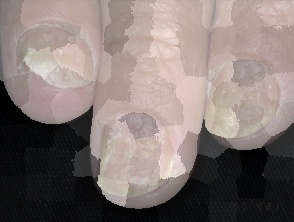Nail_psoriasis: (188, 40, 294, 156), (93, 103, 179, 207), (11, 15, 103, 97)
